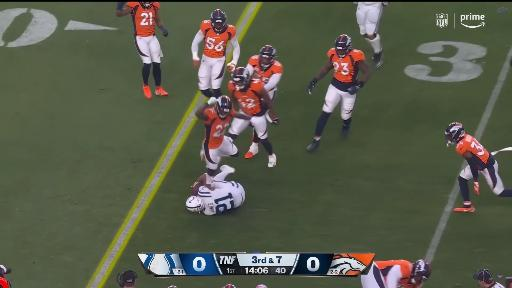Helmet: (410, 259, 431, 284), (445, 122, 465, 146), (259, 45, 276, 72), (210, 9, 227, 34), (233, 67, 251, 90), (334, 34, 351, 57), (216, 95, 232, 118), (186, 196, 205, 212), (139, 2, 153, 8)
Jersey: (328, 46, 364, 90), (456, 135, 497, 169), (200, 20, 236, 58), (376, 259, 420, 287), (229, 79, 263, 114), (198, 185, 237, 215), (205, 109, 234, 147), (128, 1, 159, 35), (248, 55, 283, 83)
Player: (307, 34, 370, 151), (445, 122, 512, 212), (226, 67, 279, 167), (116, 1, 168, 98), (195, 95, 251, 180), (191, 9, 239, 97), (186, 165, 246, 216), (354, 1, 388, 68), (246, 45, 283, 101), (361, 259, 431, 288), (244, 128, 263, 158), (226, 120, 252, 139)
